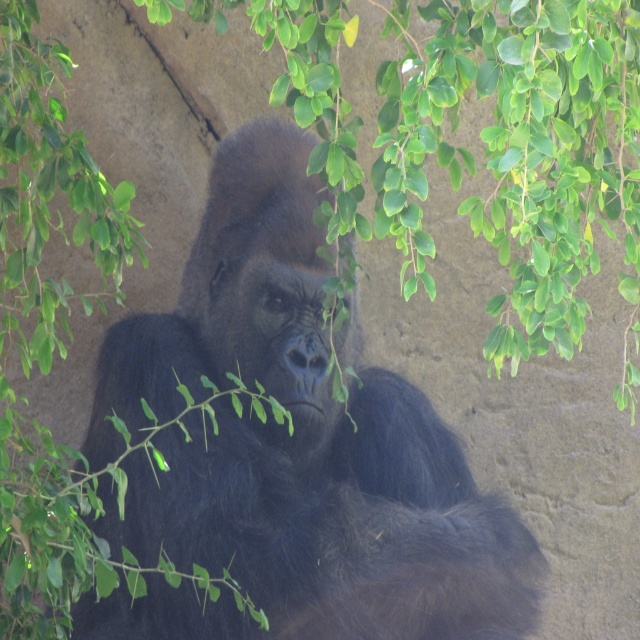Monkey: (46, 114, 550, 639)
